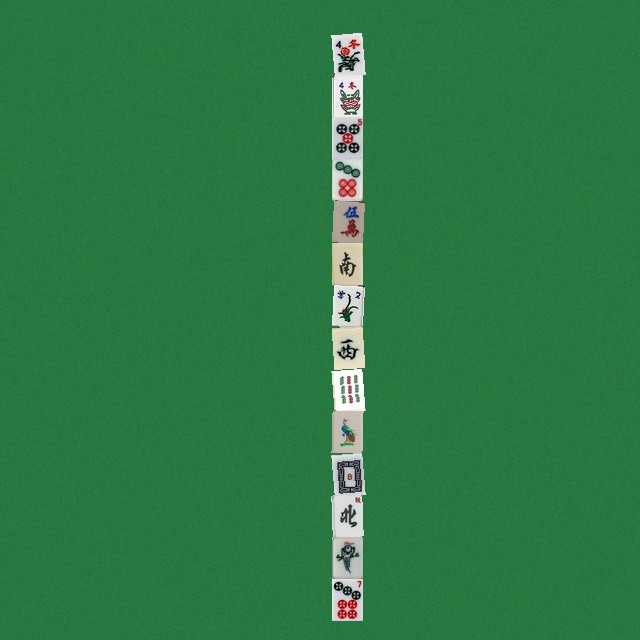tile: (331, 32, 362, 74), (331, 74, 362, 116), (331, 116, 362, 158), (331, 158, 362, 200), (331, 200, 362, 242), (331, 242, 362, 284), (331, 284, 362, 326), (331, 326, 362, 368), (331, 368, 362, 410), (331, 410, 362, 452), (331, 452, 362, 494), (331, 494, 362, 536), (331, 536, 362, 578), (331, 578, 362, 620)
